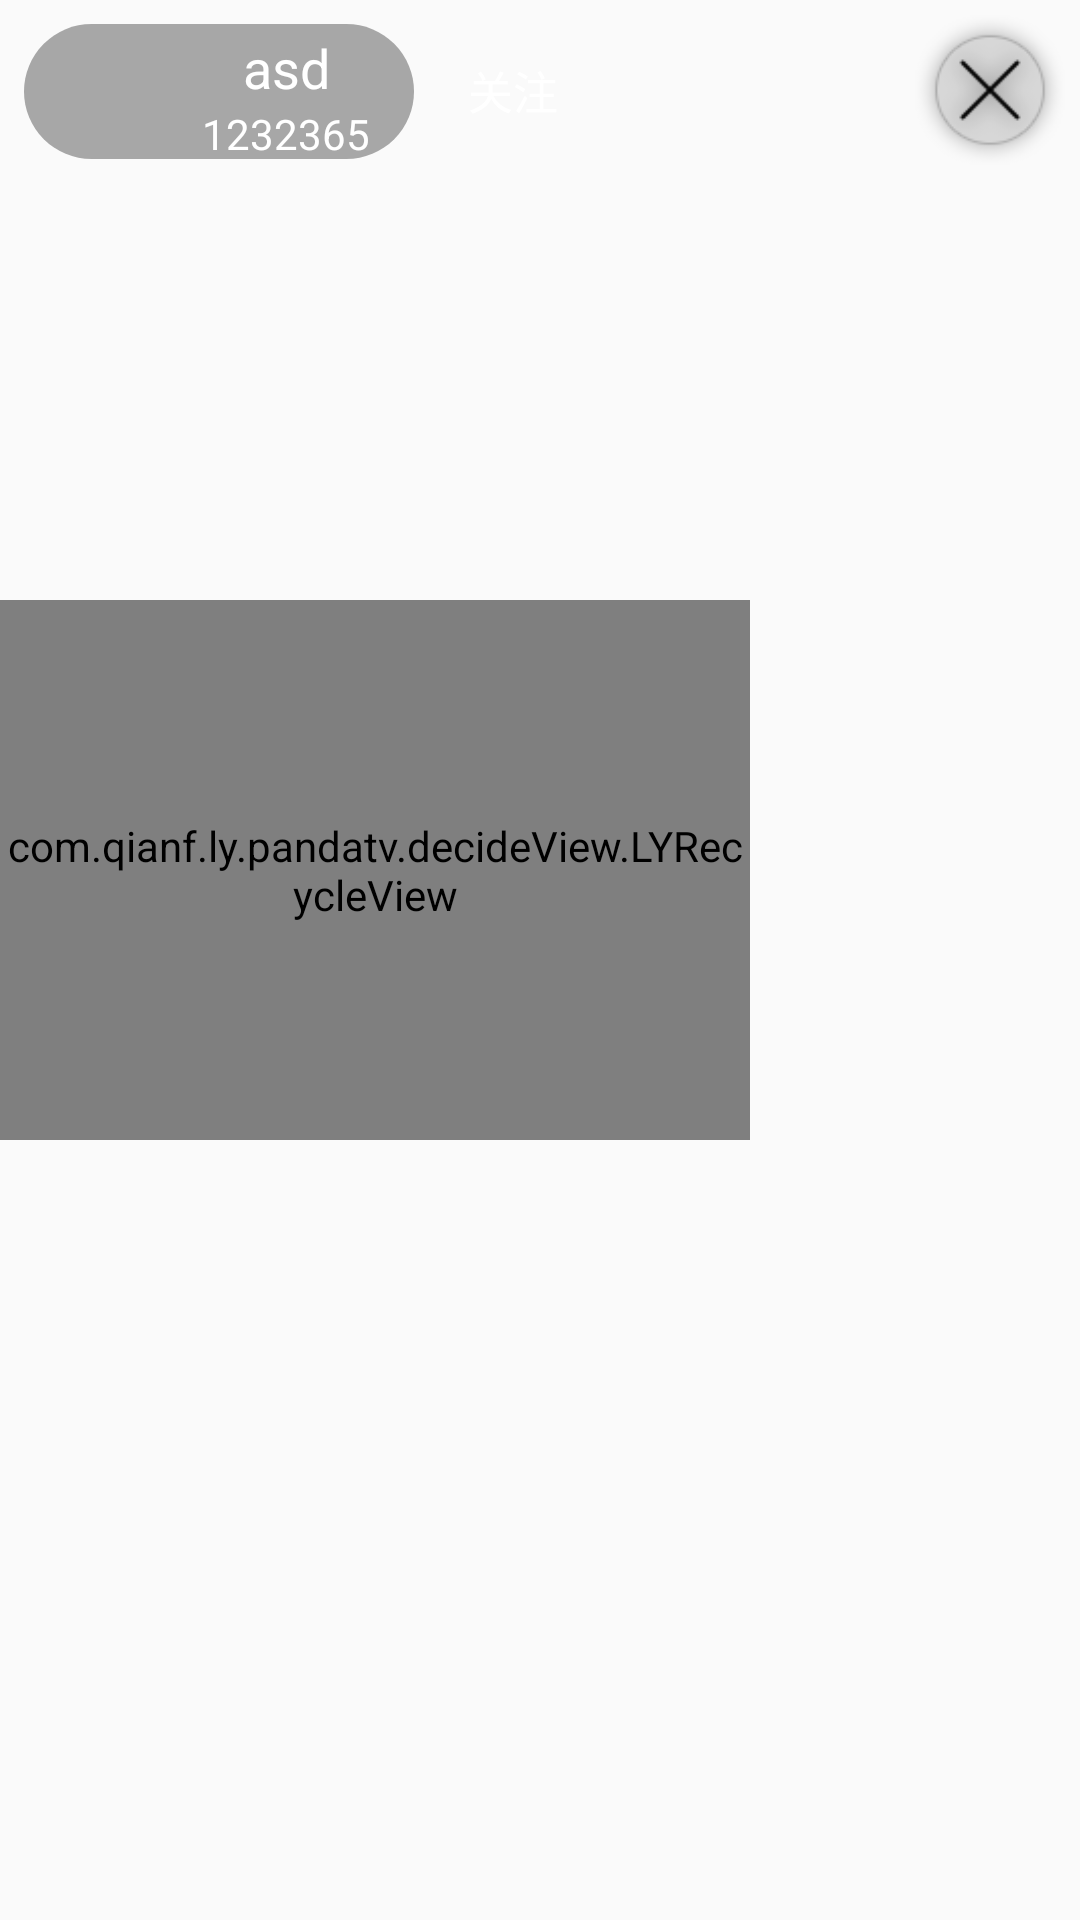

Icons on this 1080x1920 Android screen, each with its box as bbox=(x1, y1, x2, y2):
zhibojian back: bbox=(931, 31, 1049, 149)
